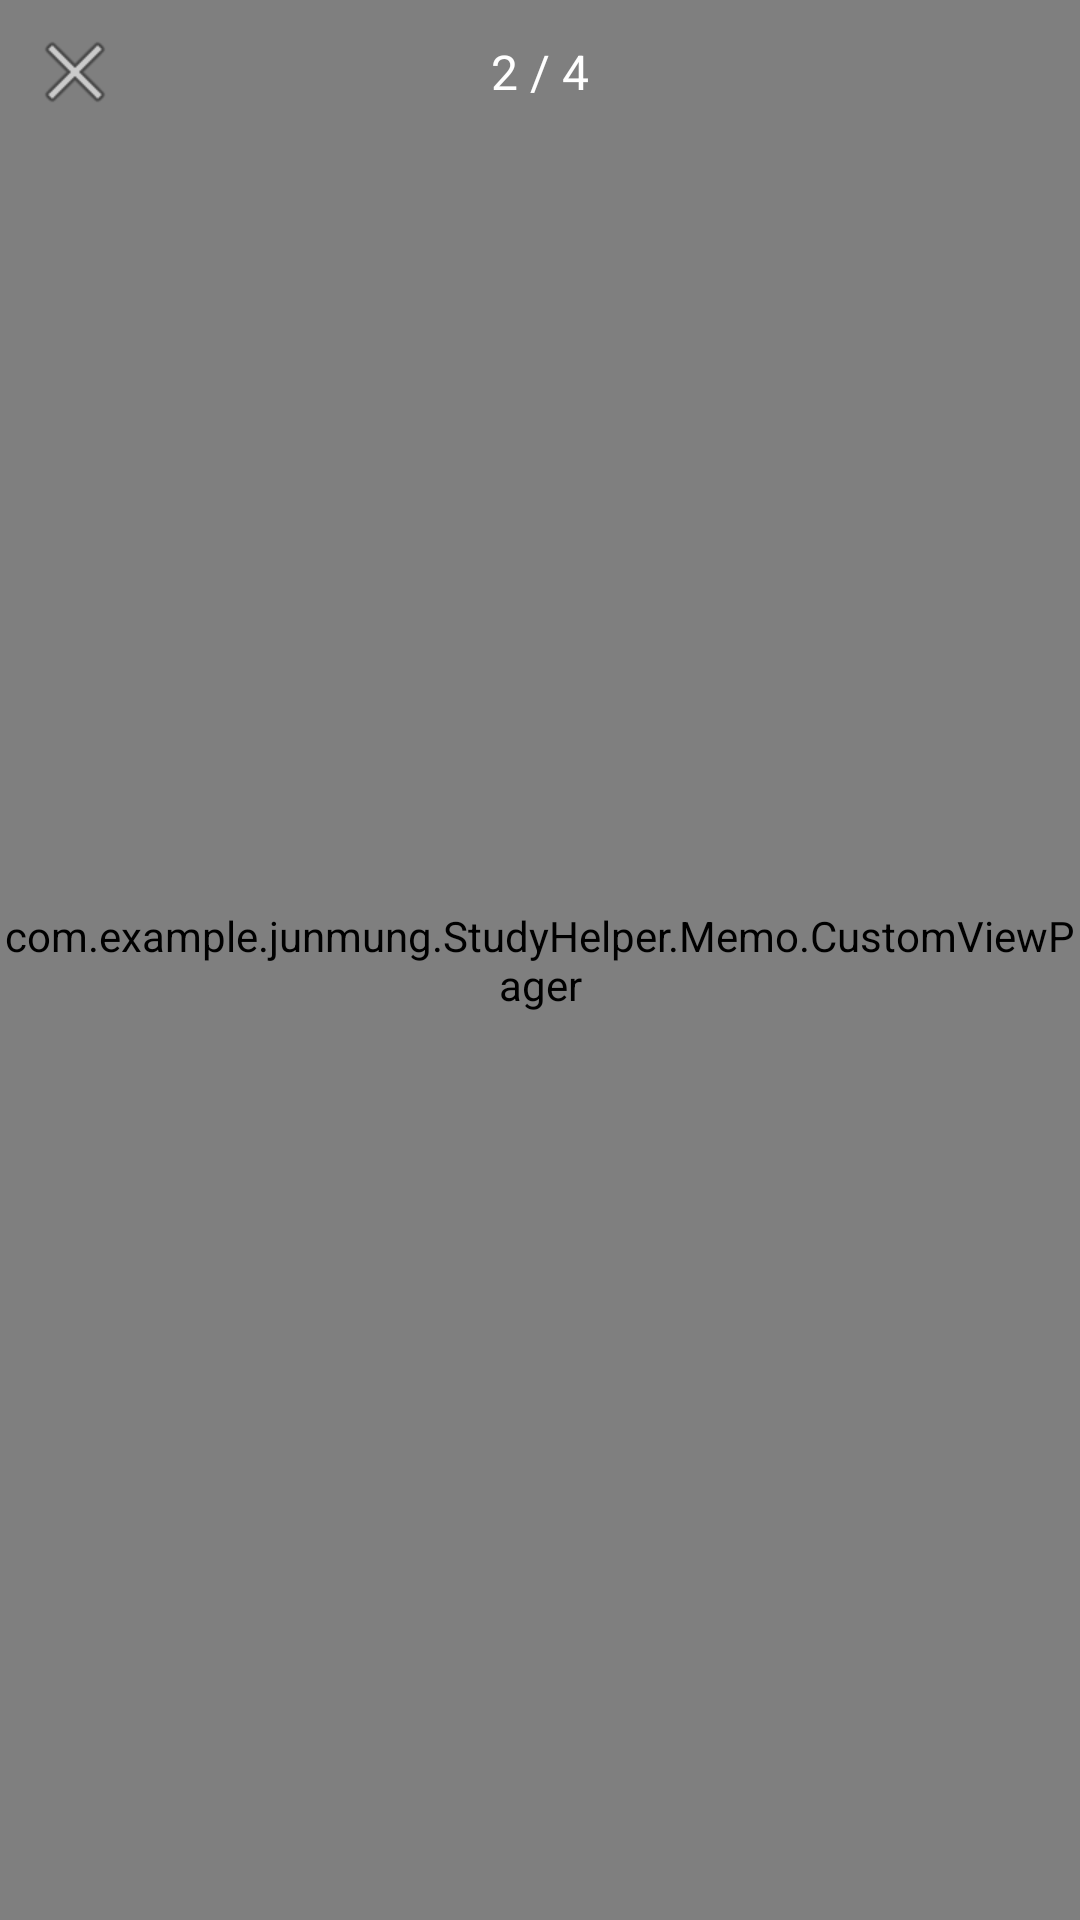

Locate icon controls on the screen. Image size 1080 x 1920, boxes as box=[x1, y1, x2, y2].
close clear cancel: box=[45, 42, 105, 102]
